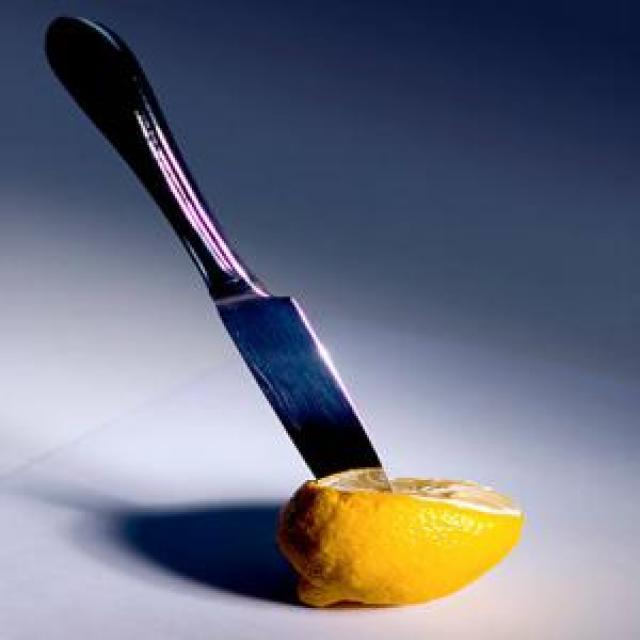knife: (45, 0, 398, 477)
